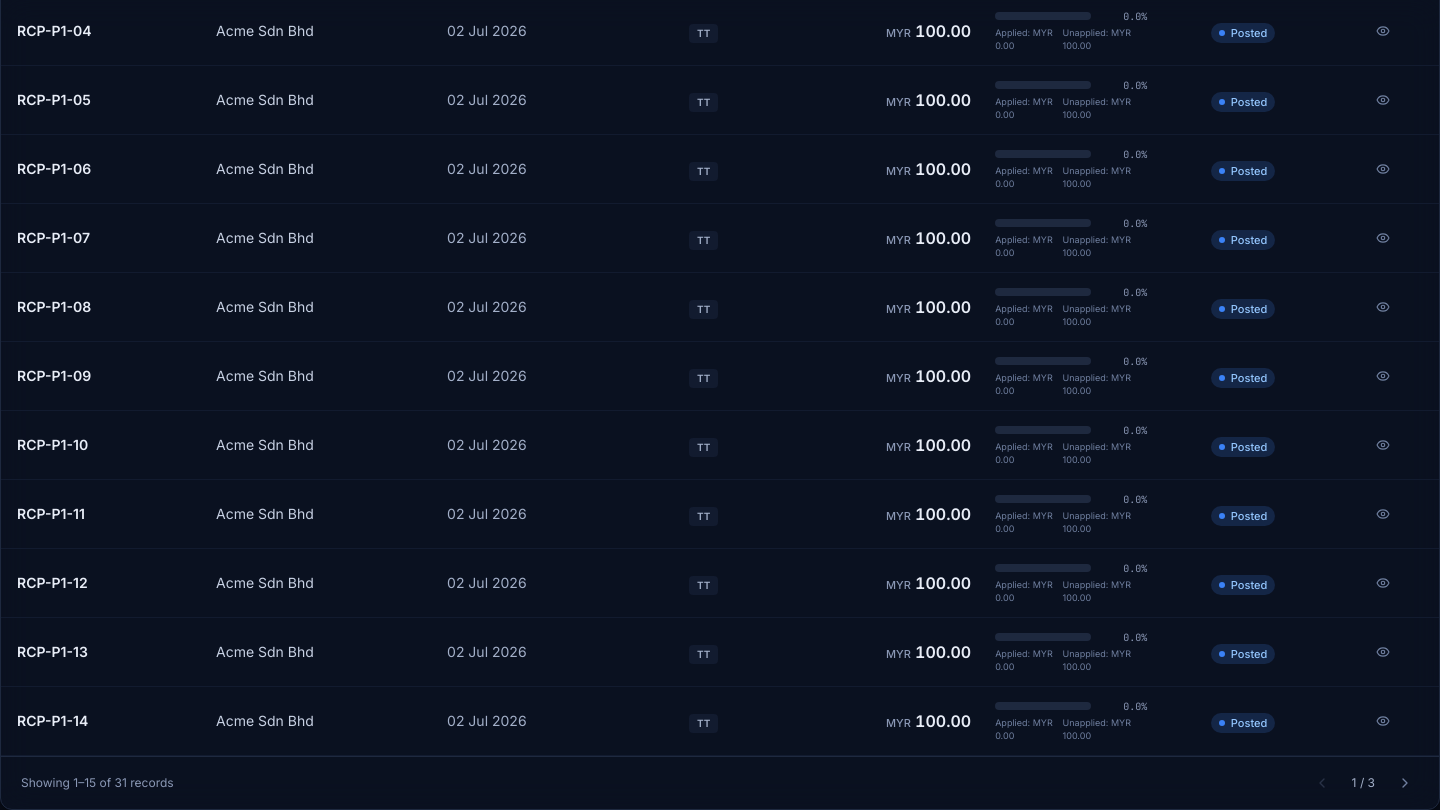
Test: Gate A — bounded receipt pagination › renders 'All statuses', reaches page two, and keeps every request bounded to 15 rows
(page scrolled)
Check: the text "Showing 1–15 of 31 records" is shown, box [21,774,174,790]
Check: the button named "previous page" is disabled, box [1308,768,1336,796]
Click the button named "next page".
click(1405, 782)  # box [1391,768,1419,796]
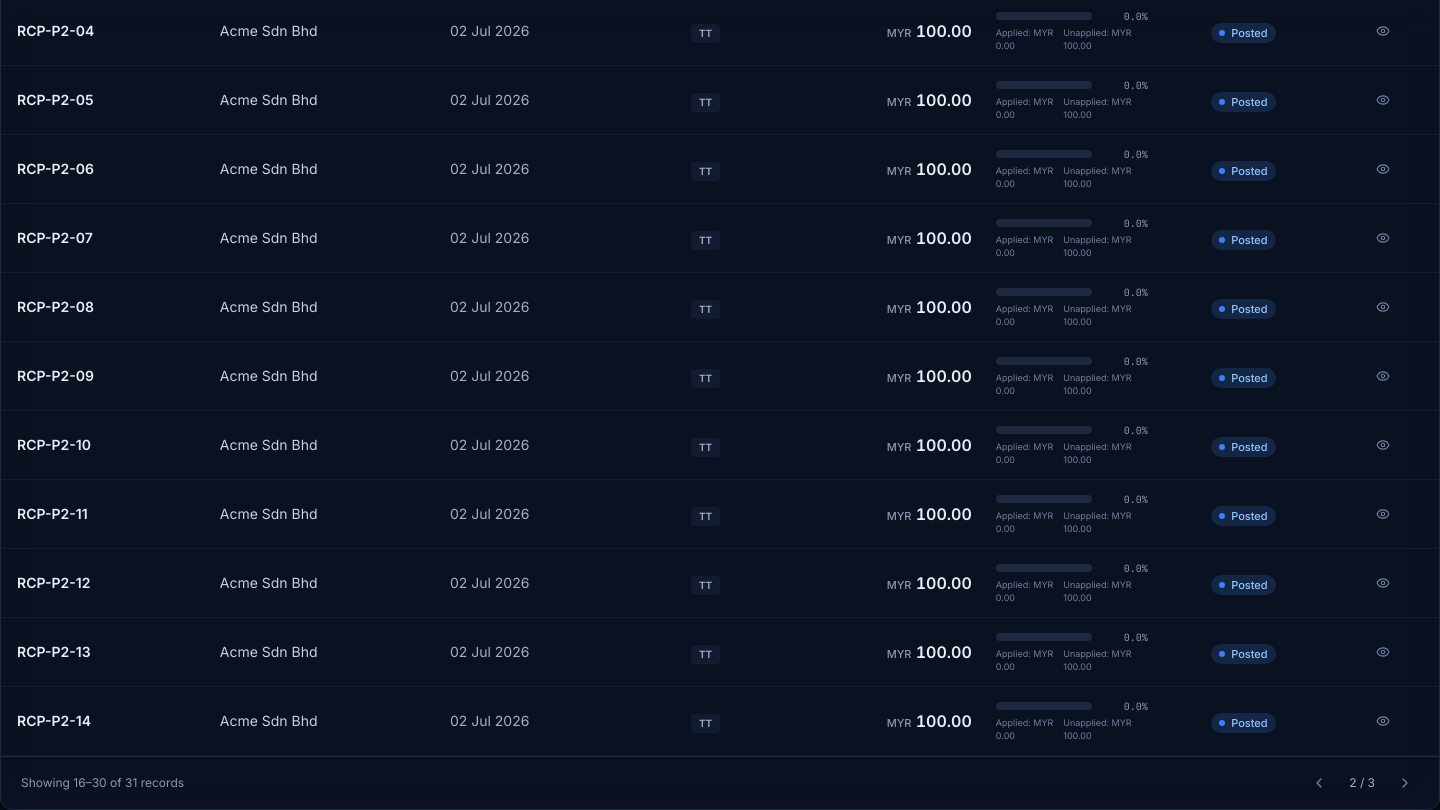
Check: the button named "previous page" is enabled, box [1305,768,1333,796]
